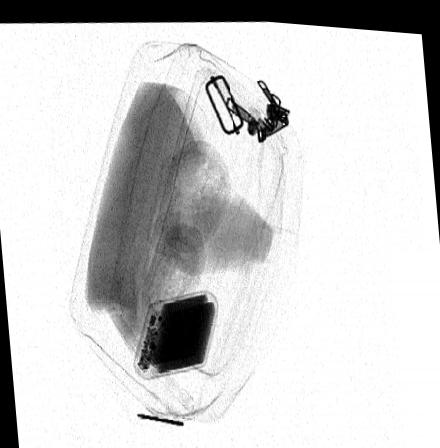Powerbank: (133, 286, 218, 377)
